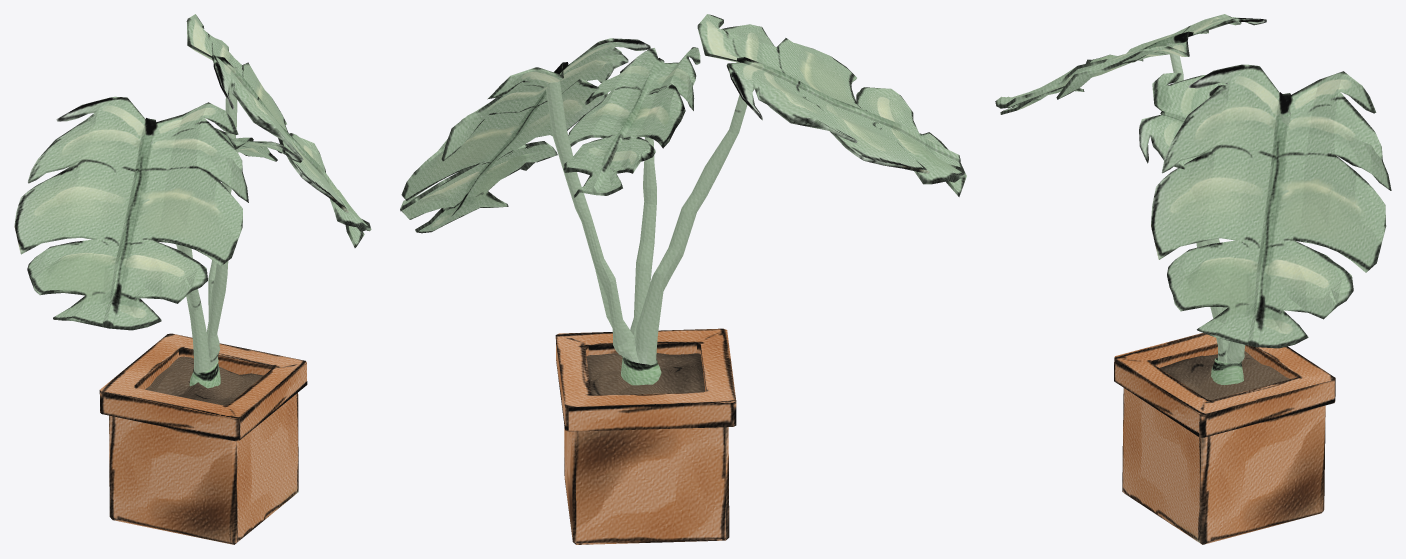
The model's file is detail_monstera.glb.
The picture shows the model from 3 angles, left to right: view 1: azimuth 30°, elevation 25°; view 2: azimuth 150°, elevation 25°; view 3: azimuth 270°, elevation 25°; orthographic projection. The views are drawn at different scales.
Parts seen in each view (by area): view 1: Monstera; view 2: Monstera; view 3: Monstera.
Boxes of the visible parts, x1,y1,x2,y2 form: Monstera: [14, 14, 371, 544]; Monstera: [400, 14, 966, 544]; Monstera: [995, 14, 1391, 544].
Size of the model in its own units: 0.0965 by 0.1005 by 0.0794.
1 material, 1 textured.
